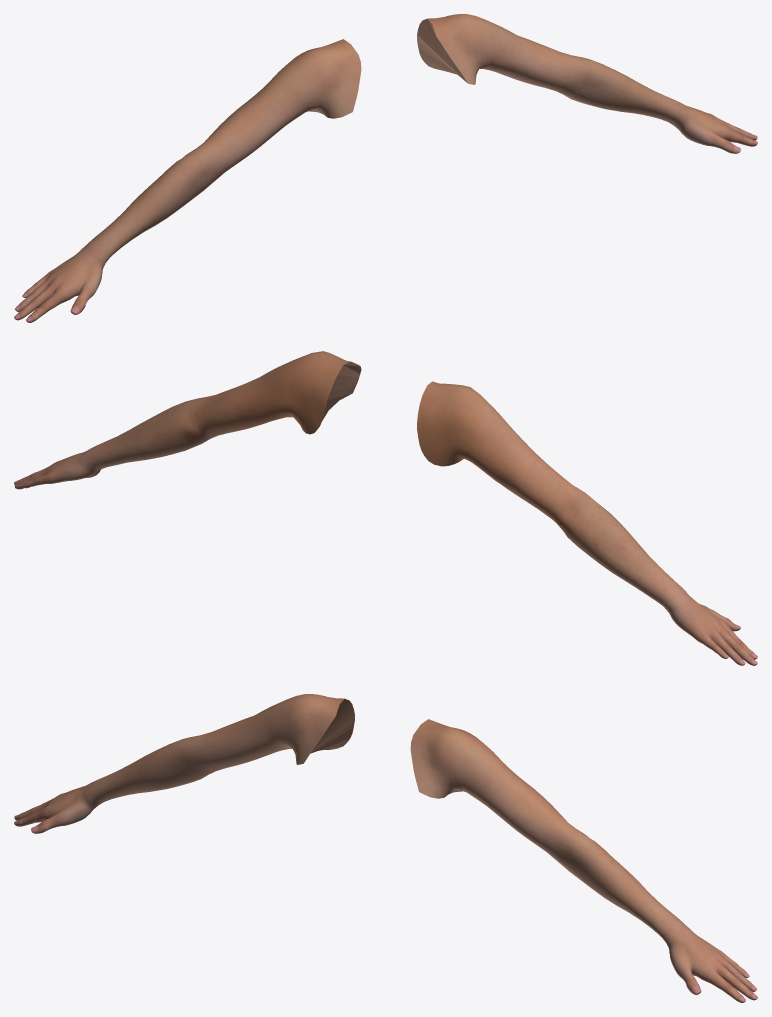
File: Taydieuduong_Tran.fbx
3 views of the same model, one above another, from view 1: azimuth 30°, elevation 25°; view 2: azimuth 150°, elevation 25°; view 3: azimuth 330°, elevation 25° (orthographic).
Parts seen in each view (by area): view 1: Taydieuduong_Tran; view 2: Taydieuduong_Tran; view 3: Taydieuduong_Tran.
Boxes of the visible parts, bbox=[...] form: Taydieuduong_Tran: bbox=[14, 14, 757, 322]; Taydieuduong_Tran: bbox=[14, 351, 757, 665]; Taydieuduong_Tran: bbox=[14, 694, 757, 1002].
Bounding box in the file's own units: 141 × 36.52 × 13.08.
1 material, 1 textured.
